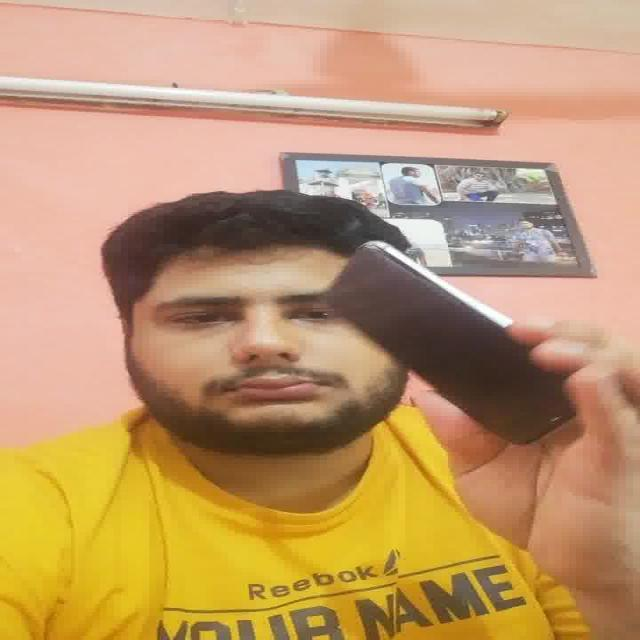Phone: (320, 240, 579, 451)
